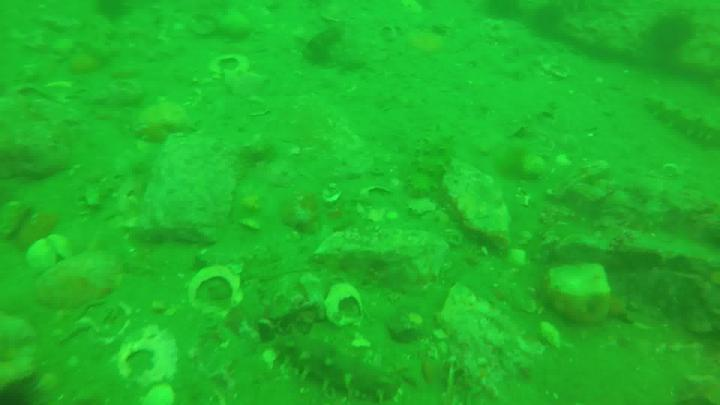holothurian: (276, 331, 405, 405), (646, 94, 720, 149), (409, 129, 455, 199), (309, 23, 365, 69)
scallop: (24, 235, 79, 272), (137, 383, 173, 405)
